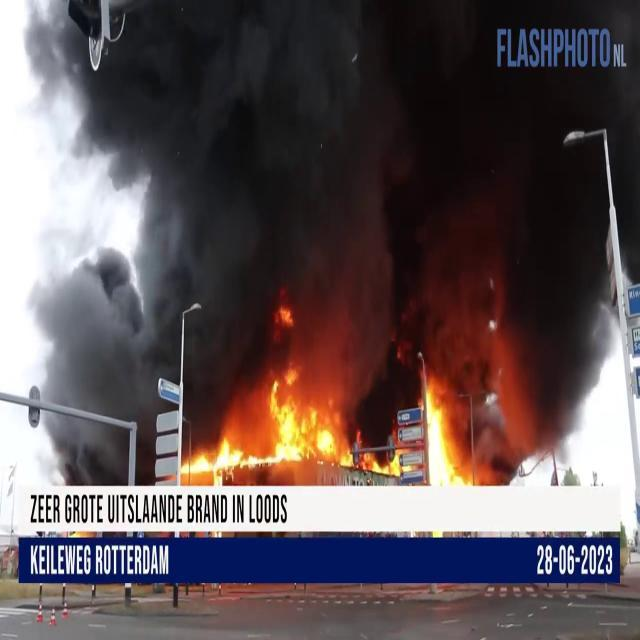Fire: (182, 363, 344, 486), (416, 364, 476, 492)
Smoke: (18, 1, 638, 447)
